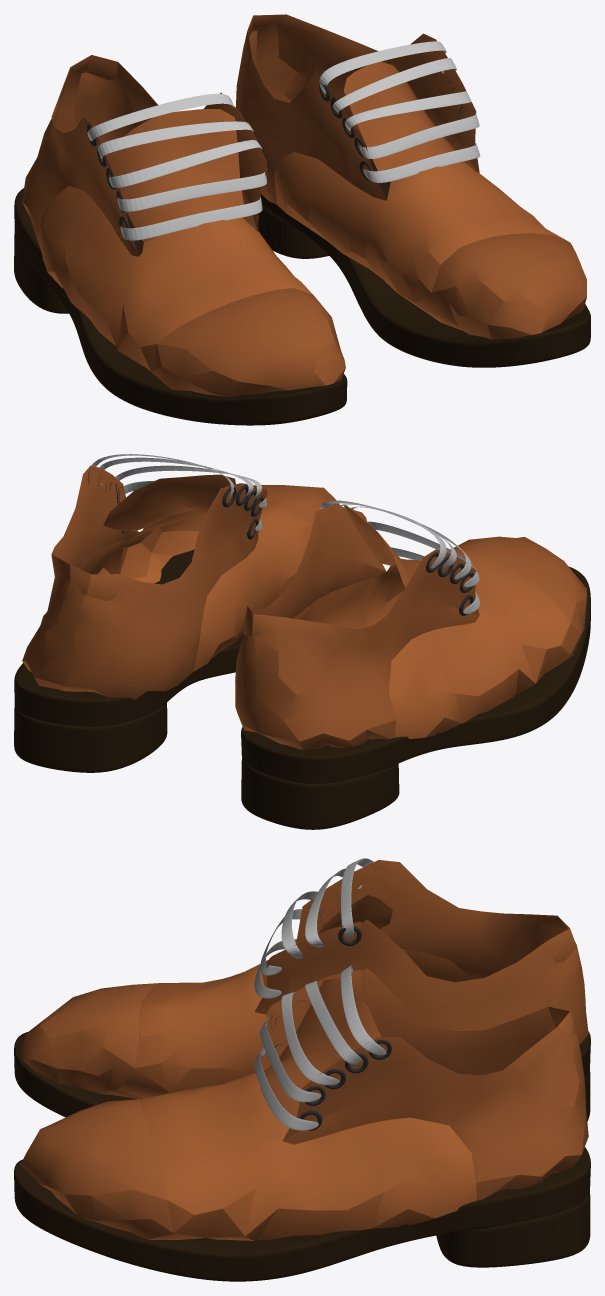
The picture shows the model from 3 angles, top to bottom: view 1: azimuth 30°, elevation 25°; view 2: azimuth 150°, elevation 25°; view 3: azimuth 270°, elevation 25°; orthographic projection. The views are drawn at different scales.
Visible parts, largest first — view 1: ZAPATO1_3.001, ZAPATO1_3, Plane.011, Plane, Plane.009, Plane.006, Plane.010, Plane.008, Plane.007, Plane.002, Plane.003, Plane.004 (+2 smaller); view 2: ZAPATO1_3.001, ZAPATO1_3, Plane.011, Plane, Plane.009, Plane.001, Plane.003, Plane.007; view 3: ZAPATO1_3, ZAPATO1_3.001, Plane, Plane.011, Plane.001, Plane.004, Plane.003, Plane.005, Plane.002, Plane.007, Plane.008, Plane.010.
Part boxes in pixels (x1,y1,x2,y2): ZAPATO1_3.001: (22, 55, 345, 396); ZAPATO1_3: (236, 14, 586, 339); Plane.011: (14, 188, 347, 425); Plane: (258, 159, 590, 367); Plane.009: (117, 172, 266, 211); Plane.006: (120, 196, 262, 240); Plane.010: (109, 140, 262, 187); Plane.008: (97, 121, 253, 158); Plane.007: (87, 93, 234, 140); Plane.002: (359, 114, 479, 158); Plane.003: (333, 58, 456, 112); Plane.004: (319, 41, 446, 93); ZAPATO1_3.001: (235, 505, 586, 750); ZAPATO1_3: (22, 465, 339, 699); Plane.011: (241, 566, 590, 829); Plane: (14, 549, 243, 772); Plane.009: (366, 521, 479, 587); Plane.001: (115, 465, 262, 501); Plane.003: (99, 457, 253, 497); Plane.007: (320, 500, 446, 568); ZAPATO1_3: (20, 968, 588, 1240); ZAPATO1_3.001: (20, 860, 588, 1099); Plane: (14, 1147, 590, 1281); Plane.011: (14, 1031, 590, 1121); Plane.001: (281, 992, 339, 1085); Plane.004: (340, 965, 386, 1055); Plane.003: (305, 981, 361, 1064); Plane.005: (254, 1047, 318, 1130); Plane.002: (260, 1016, 321, 1102); Plane.007: (340, 858, 373, 938); Plane.008: (305, 868, 361, 947); Plane.010: (281, 891, 317, 958).
Size of the model in its own units: 412 by 209 by 447.
